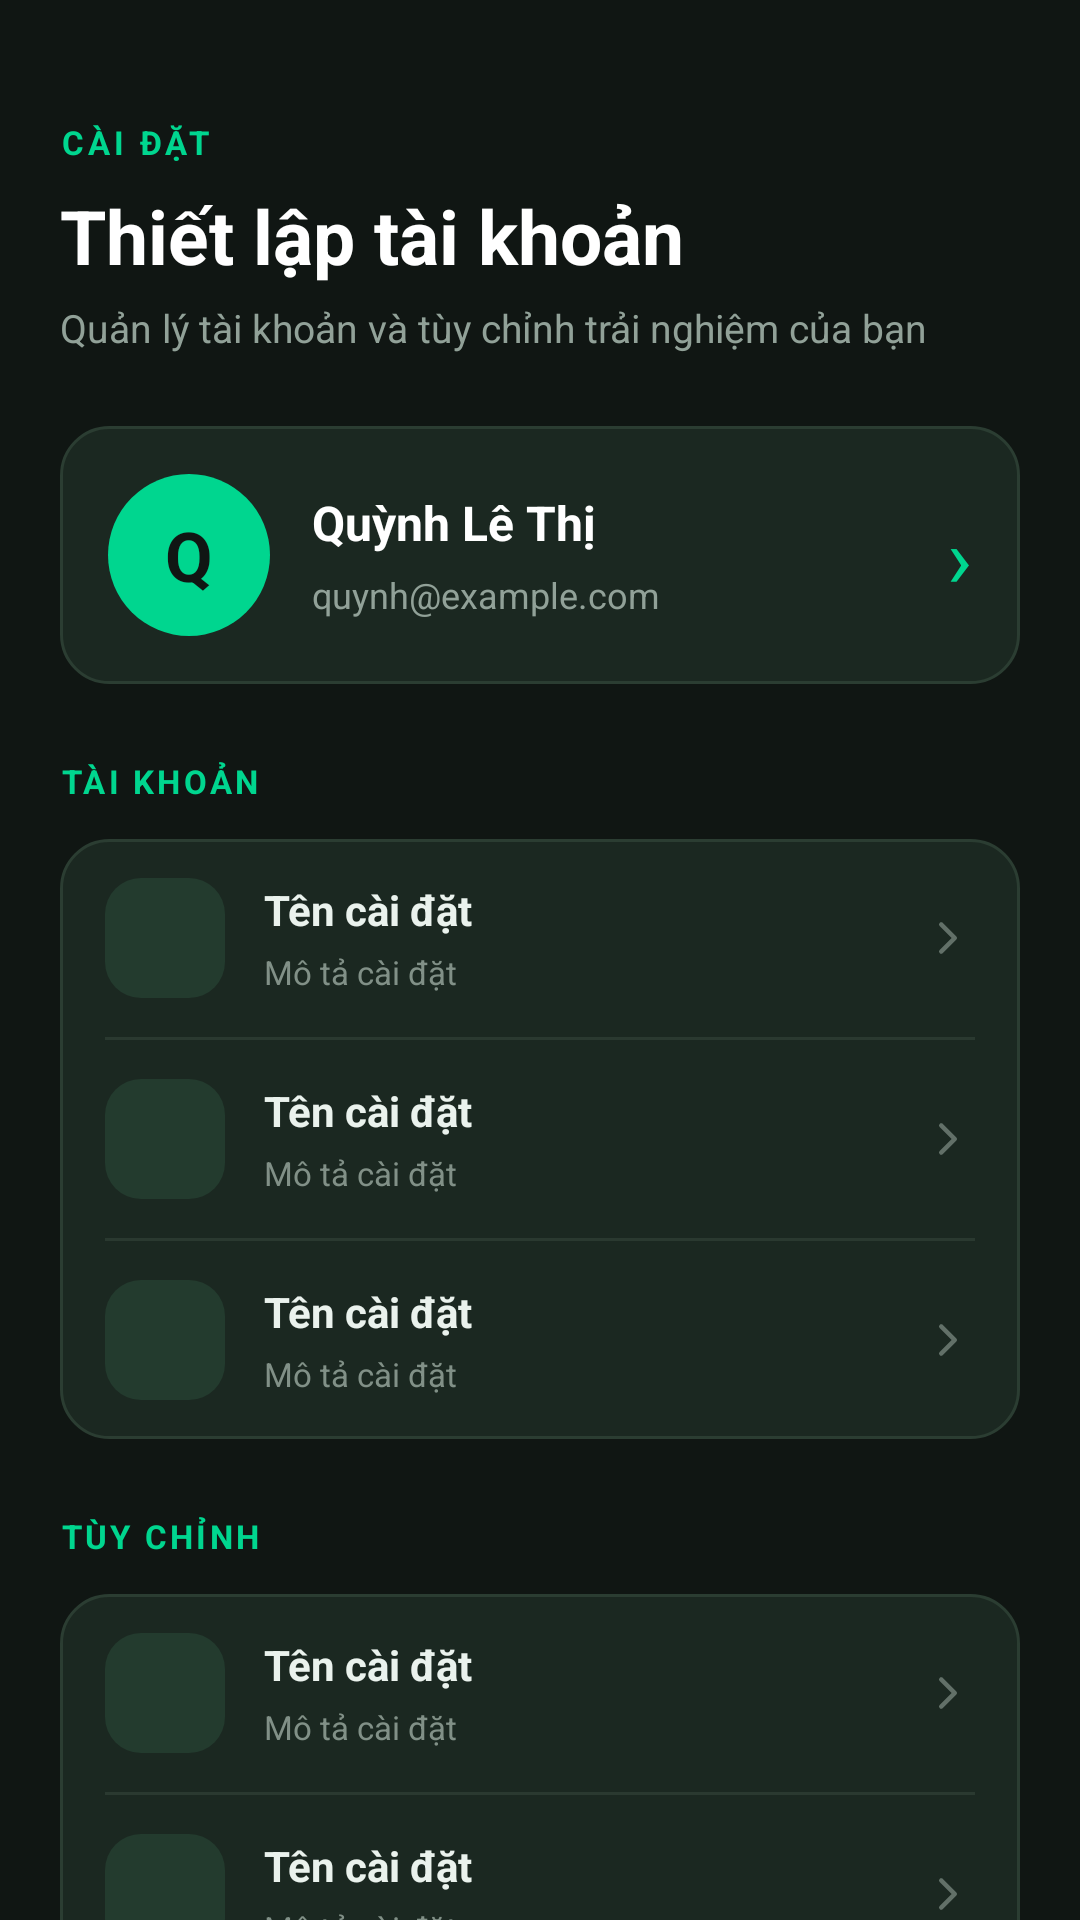

Icon bounding boxes for this 1080w x 1920h phone screenshot, format (x1=x1, y1=y1, x2=x2, y2=y2):
arrow right: (x1=939, y1=922, x2=957, y2=954), (x1=939, y1=1123, x2=957, y2=1155), (x1=939, y1=1324, x2=957, y2=1356), (x1=939, y1=1677, x2=957, y2=1709), (x1=939, y1=1878, x2=957, y2=1910)
